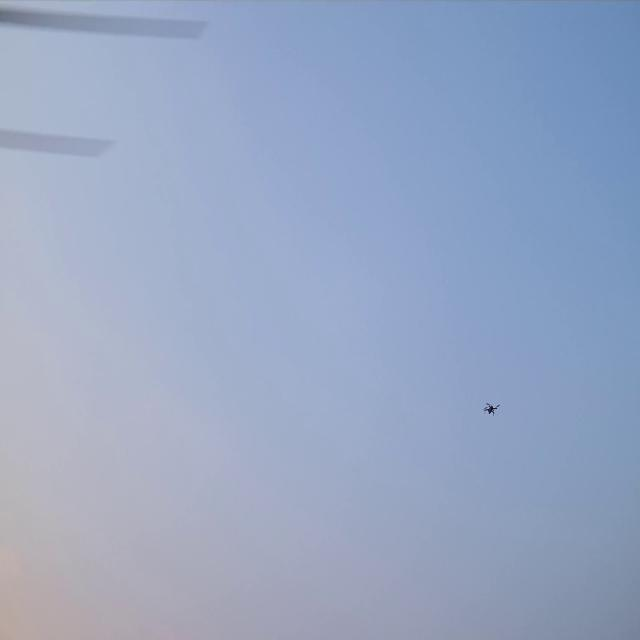UAV: (484, 404, 498, 414)
